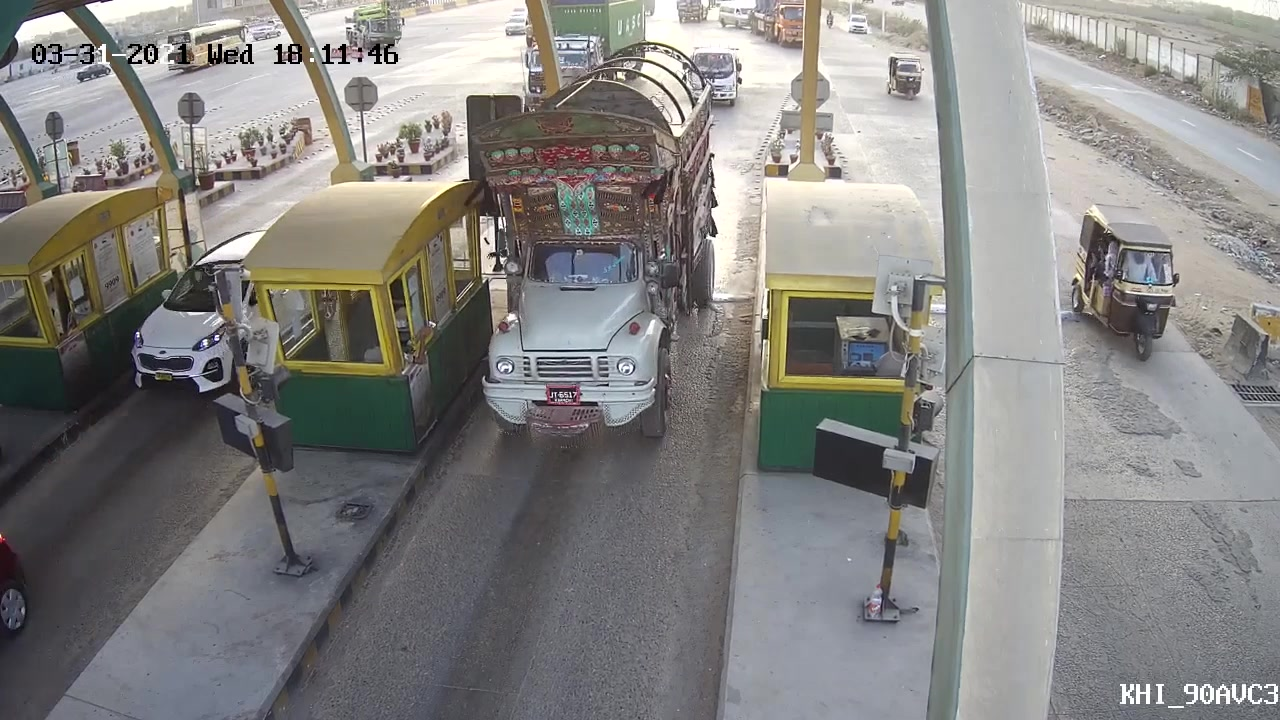F5: (467, 38, 721, 459)
